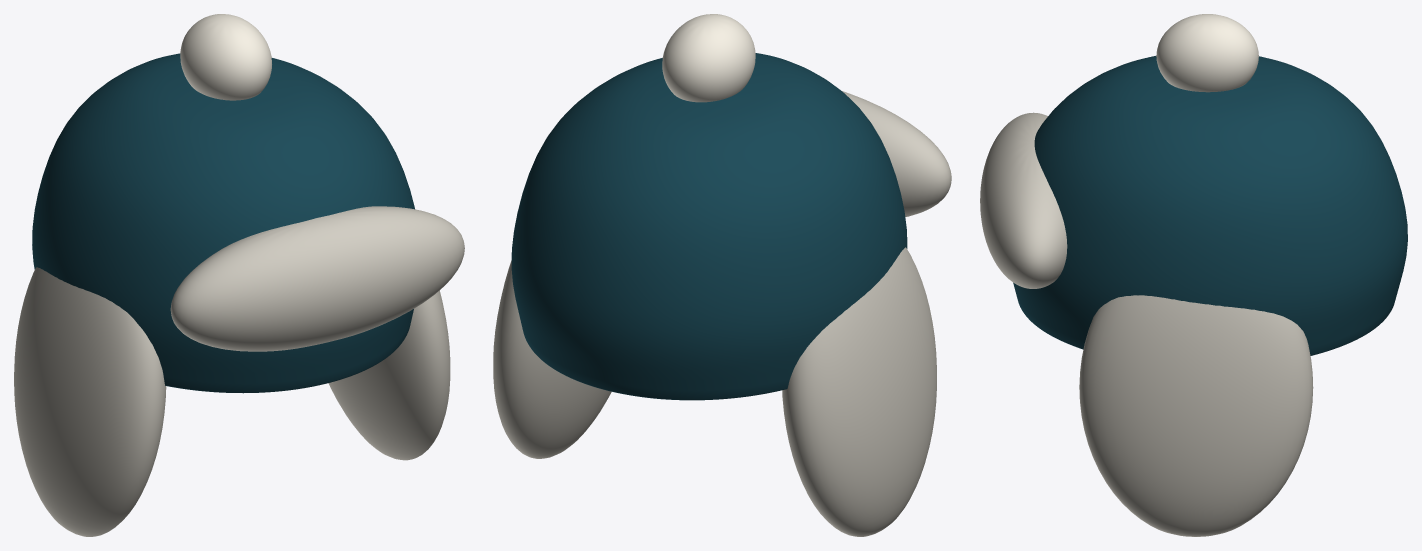
The model's file is winter_ushanka.glb.
3 views of the same model, side by side, from view 1: azimuth 30°, elevation 25°; view 2: azimuth 150°, elevation 25°; view 3: azimuth 270°, elevation 25° (orthographic). The views are drawn at different scales.
Visible parts, largest first — view 1: Domed_shell, Left_ear_flap, Folded_fur_forehead, Right_ear_flap, Pom_pom; view 2: Domed_shell, Left_ear_flap, Right_ear_flap, Pom_pom, Folded_fur_forehead; view 3: Domed_shell, Right_ear_flap, Folded_fur_forehead, Pom_pom.
Boxes of the visible parts, x1=… form: Domed_shell: x1=32, y1=53, x2=414, y2=393; Left_ear_flap: x1=14, y1=267, x2=166, y2=536; Folded_fur_forehead: x1=170, y1=206, x2=464, y2=351; Right_ear_flap: x1=328, y1=290, x2=450, y2=460; Pom_pom: x1=180, y1=14, x2=271, y2=100; Domed_shell: x1=511, y1=53, x2=907, y2=400; Left_ear_flap: x1=782, y1=247, x2=936, y2=536; Right_ear_flap: x1=493, y1=260, x2=611, y2=458; Pom_pom: x1=662, y1=14, x2=755, y2=102; Folded_fur_forehead: x1=842, y1=91, x2=951, y2=216; Domed_shell: x1=1013, y1=56, x2=1407, y2=355; Right_ear_flap: x1=1079, y1=295, x2=1313, y2=536; Folded_fur_forehead: x1=980, y1=112, x2=1067, y2=288; Pom_pom: x1=1156, y1=14, x2=1258, y2=92.
Size of the model in its own units: 0.89 by 1.06 by 0.9246.
